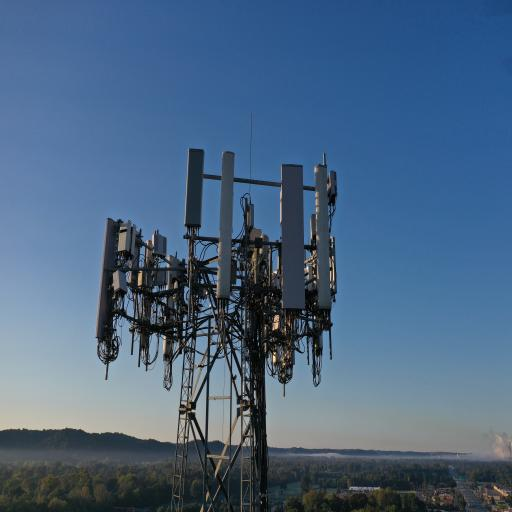supporting_tower: (94, 113, 338, 512)
